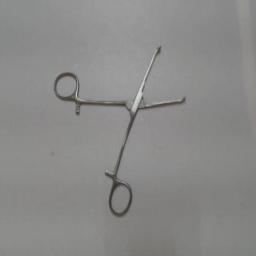Allis Tissue Forceps: (46, 39, 192, 221)
